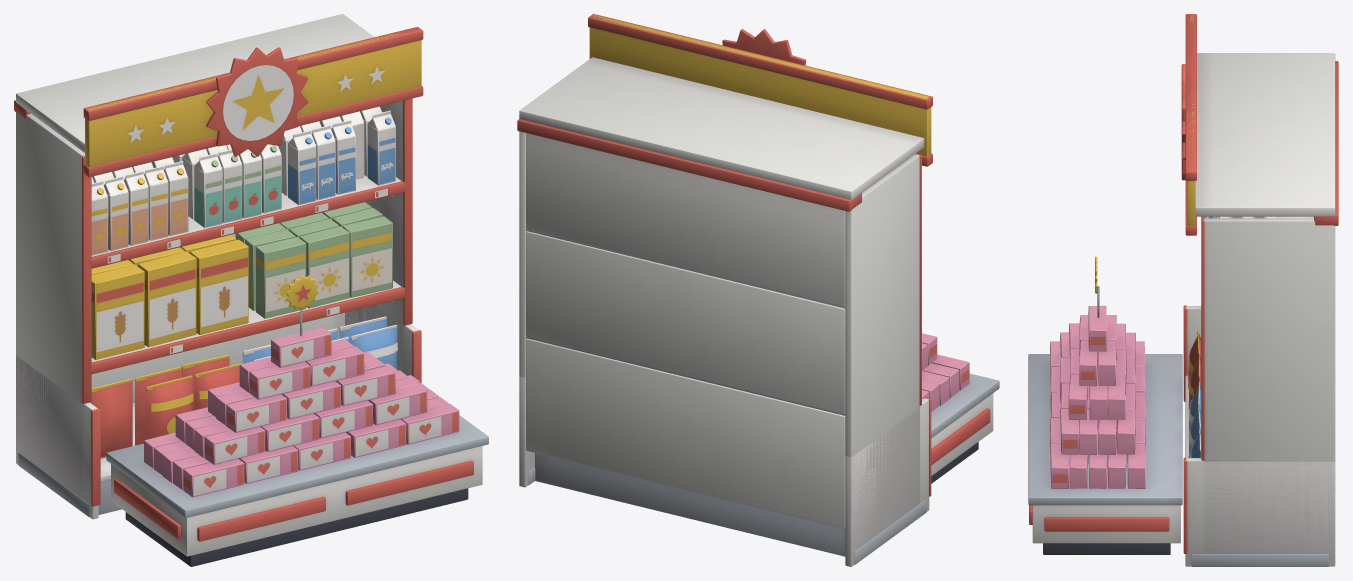
File: g3-end-cap-display.glb
3 views of the same model, side by side, from view 1: azimuth 30°, elevation 25°; view 2: azimuth 150°, elevation 25°; view 3: azimuth 270°, elevation 25° (orthographic). The views are drawn at different scales.
Visible parts, largest first — view 1: end-cap-display_body; view 2: end-cap-display_body; view 3: end-cap-display_body.
Part boxes in pixels (x1,y1,x2,y2): end-cap-display_body: (14, 14, 488, 566); end-cap-display_body: (517, 14, 999, 566); end-cap-display_body: (1028, 14, 1338, 566).
Bounding box in the file's own units: 1.28 × 1.58 × 1.06.
2 materials, 1 textured.
